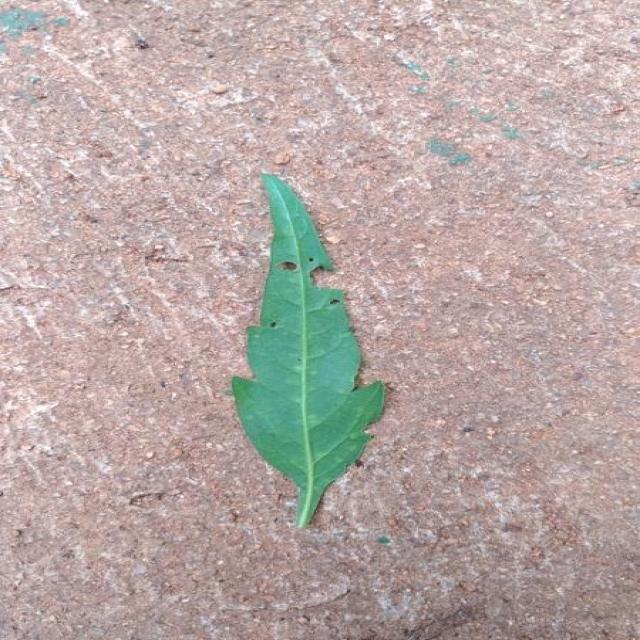disease in leaf: (232, 174, 385, 528)
